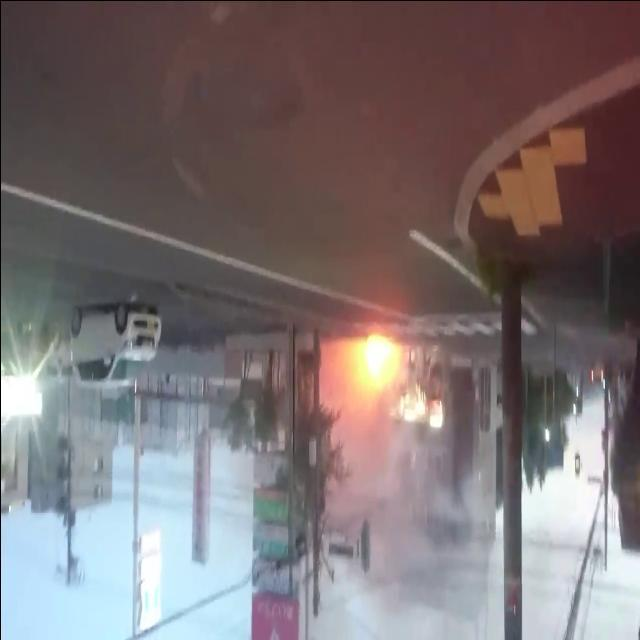Fire: (362, 334, 397, 380)
